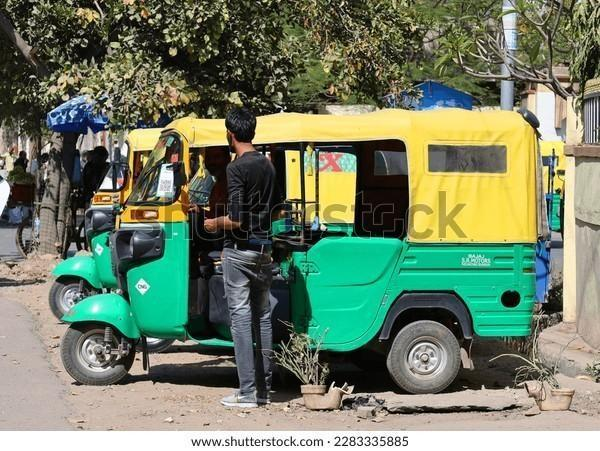keke: (46, 116, 497, 414)
